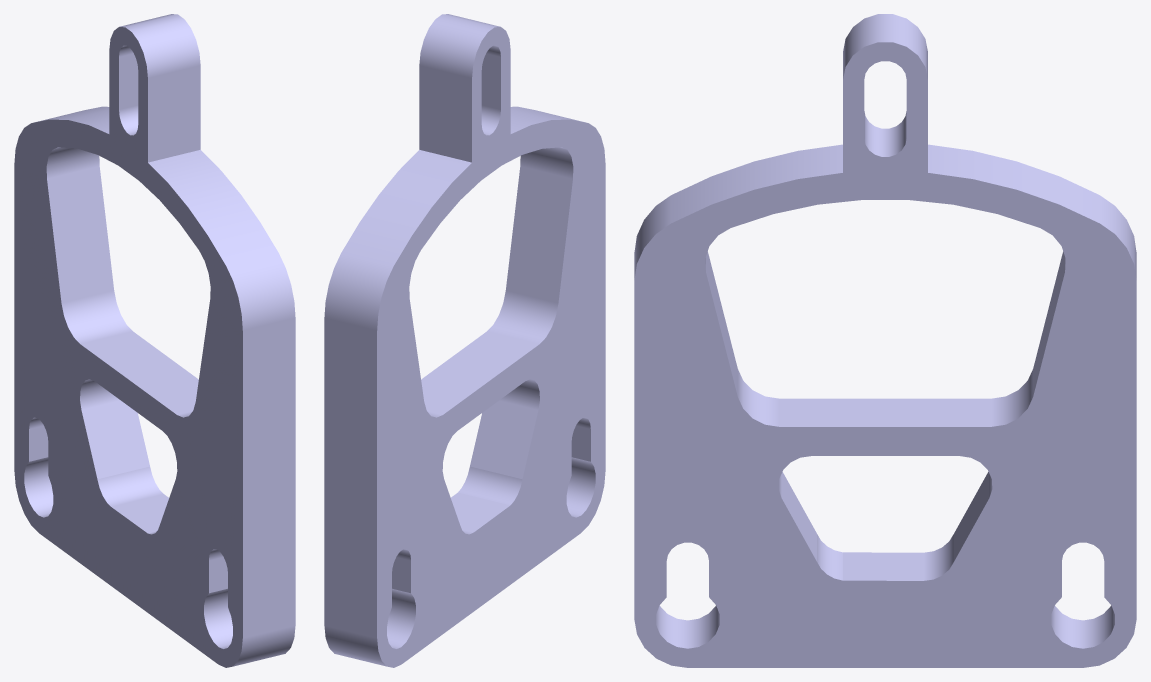
Rendered from 22 Slip cover.fbx.
3 views of the same model, side by side, from view 1: azimuth 30°, elevation 25°; view 2: azimuth 150°, elevation 25°; view 3: azimuth 270°, elevation 25° (orthographic). The views are drawn at different scales.
Visible parts, largest first — view 1: PartBody; view 2: PartBody; view 3: PartBody.
Boxes of the visible parts, bbox=[...] form: PartBody: bbox=[14, 14, 295, 667]; PartBody: bbox=[324, 14, 605, 667]; PartBody: bbox=[634, 14, 1136, 667].
Size of the model in its own units: 0.7874 by 8.12 by 5.91.
